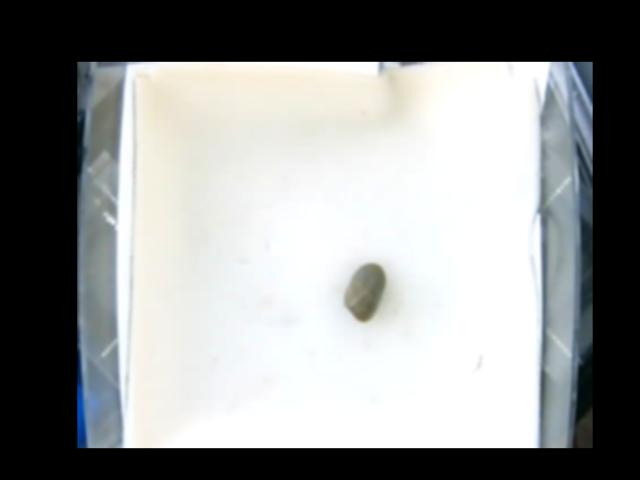Pebble: (343, 262, 386, 322)
